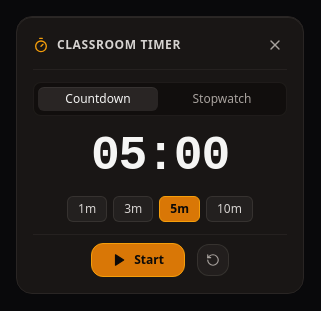
Test: ClassroomTimerWidget Component (Synchronized Classroom Timer & Stopwatch HUD) › supports stopwatch mode counting upwards
The width and height of the screenshot is (321, 311).
Click the button "Stopwatch": (222, 99) [162,87,282,111]
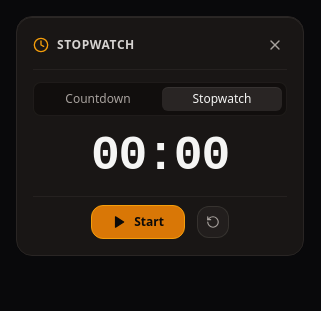
Result: the text "00:00" is shown at [91,129,229,183]
Click the button "Start": (138, 222) [91,205,185,239]
Wait 15000 ms
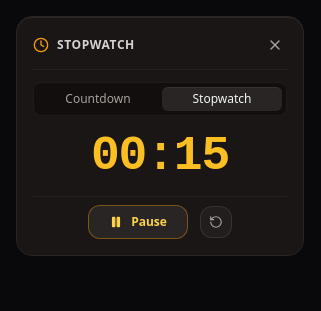
Result: the text "00:15" is shown at [91,129,229,183]
